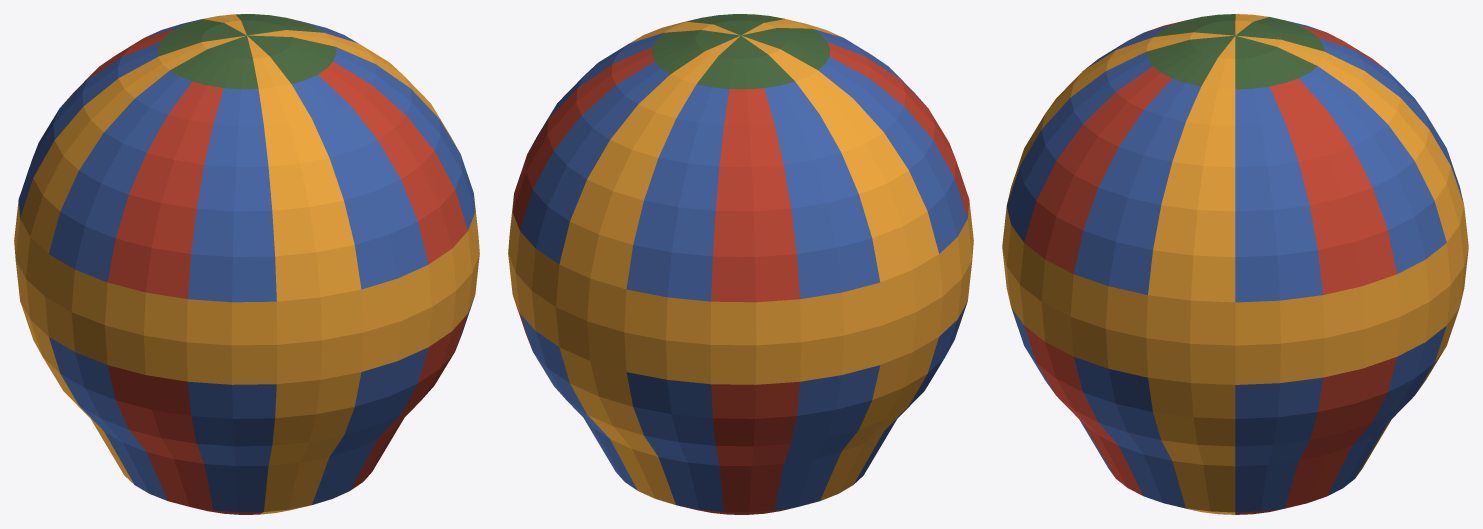
File: Super_ShellS_Ball_10_SuperBURST.fbx
3 renders of one model, left to right at view 1: azimuth 30°, elevation 25°; view 2: azimuth 150°, elevation 25°; view 3: azimuth 270°, elevation 25°, orthographic.
Parts seen in each view (by area): view 1: Sphere; view 2: Sphere; view 3: Sphere.
Part boxes in pixels (x1,y1,x2,y2): Sphere: (14,14,479,514); Sphere: (508,14,973,514); Sphere: (1002,14,1468,514).
Bounding box in the file's own units: 35 × 37.88 × 35.
1 material, 1 textured.
